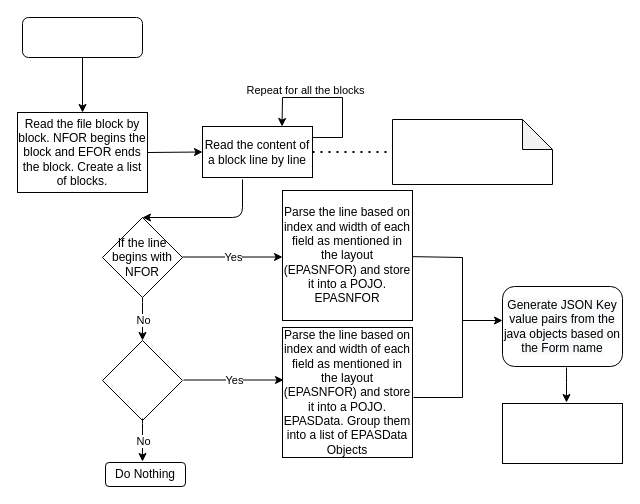
This 640x504 diagram has some shape labels left out. The shapes that lost their labels are listed below. From the top down, each one's box as (x1, y1, x2, y2) in pixels, then its label:
(22, 16, 142, 58): Input File PEPUL
(392, 118, 552, 184): A block conatins 1) EPASNFOR object 2)List of EPASData objects
(102, 340, 182, 420): If the line begins with EPAS
(502, 402, 622, 464): Call Render Service
